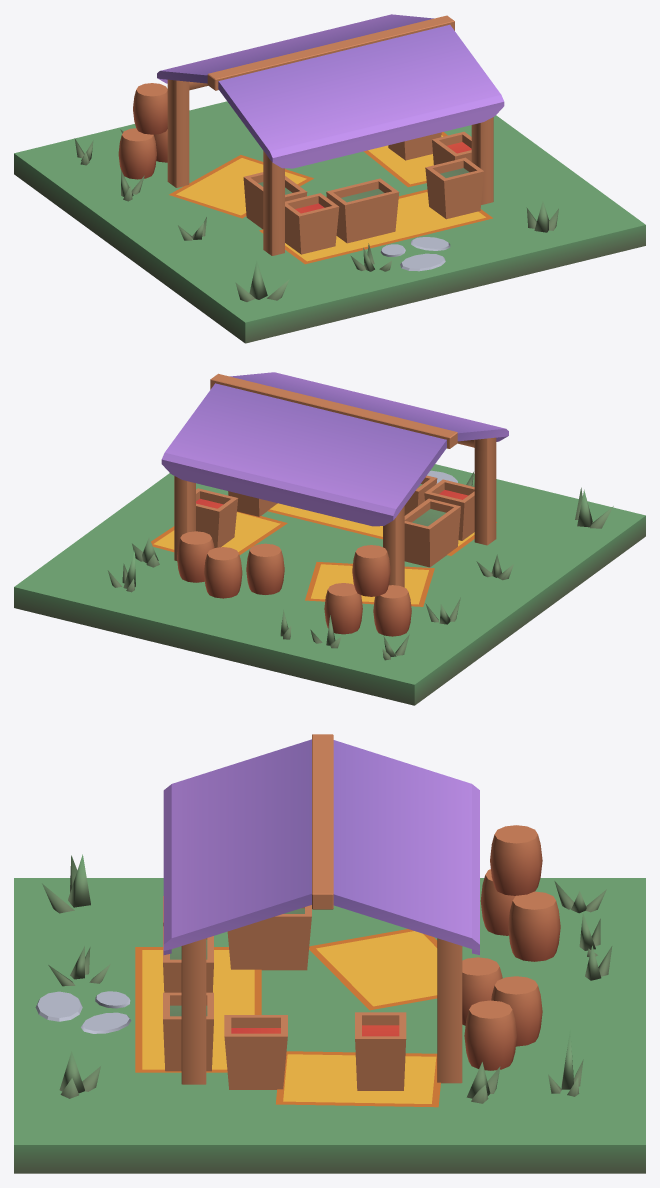
The model's file is fruit_stand.glb.
The picture shows the model from 3 angles, top to bottom: view 1: azimuth 30°, elevation 25°; view 2: azimuth 150°, elevation 25°; view 3: azimuth 270°, elevation 25°; orthographic projection. The views are drawn at different scales.
Parts seen in each view (by area): view 1: fruit_stand; view 2: fruit_stand; view 3: fruit_stand.
Part boxes in pixels (box(x1,y1,x2,y2)): fruit_stand: box(14, 14, 645, 343); fruit_stand: box(14, 372, 645, 705); fruit_stand: box(14, 734, 645, 1173).
Size of the model in its own units: 1 by 0.3936 by 1.
1 material, 1 textured.
